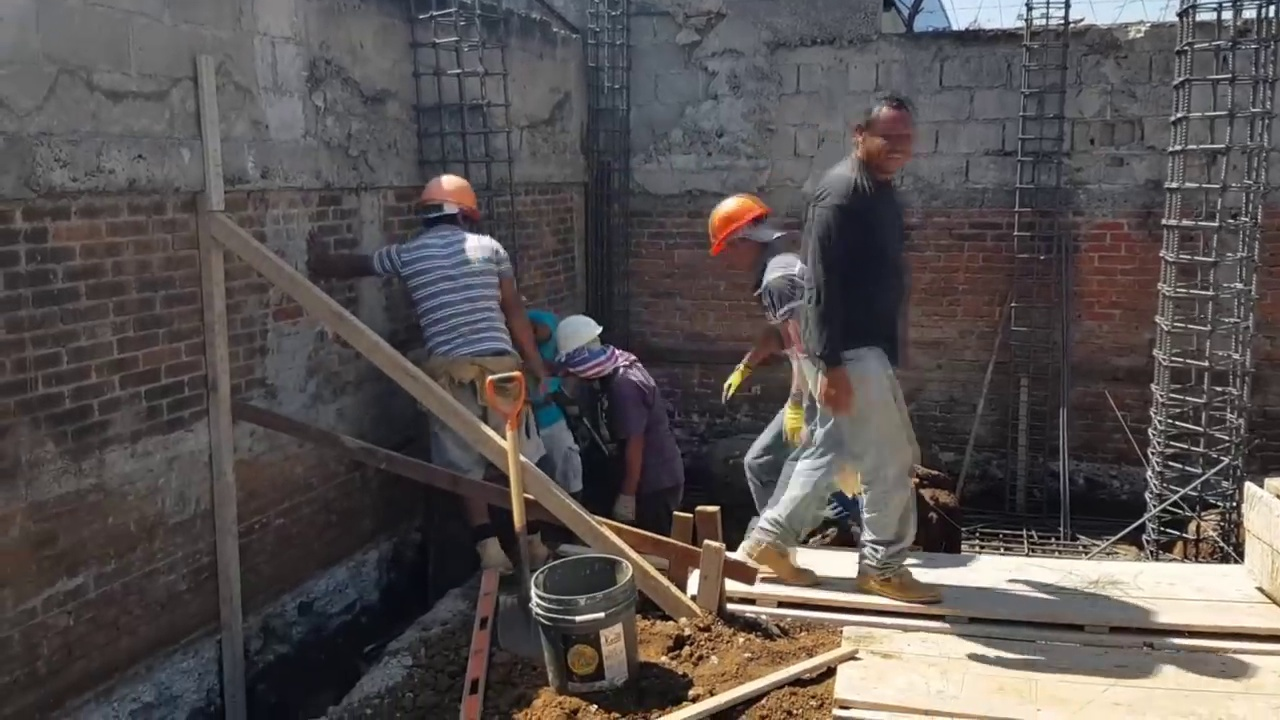helmet: (706, 188, 765, 265), (550, 315, 605, 367), (413, 171, 481, 212)
helmet-off: (858, 101, 915, 181)
helmet-on: (706, 186, 780, 274), (412, 171, 482, 231), (550, 312, 612, 379)
person: (744, 99, 930, 591), (364, 165, 537, 443), (703, 187, 829, 476), (543, 312, 674, 520)
